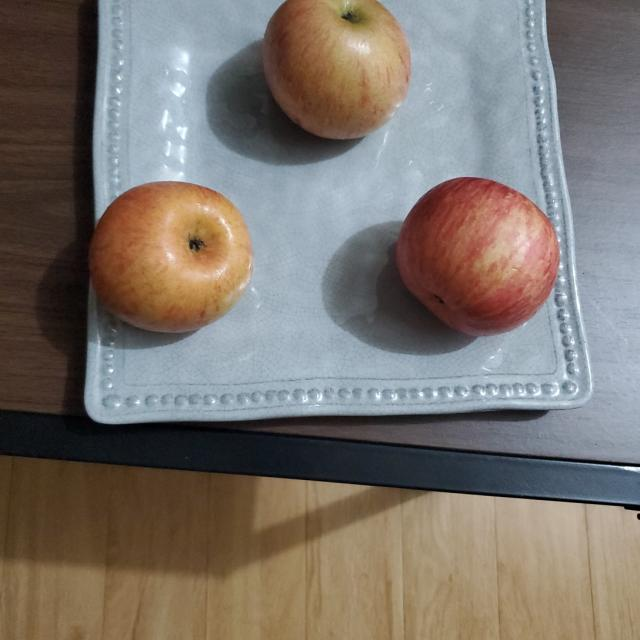apple: (396, 174, 559, 332), (90, 180, 253, 331), (263, 0, 407, 139)
